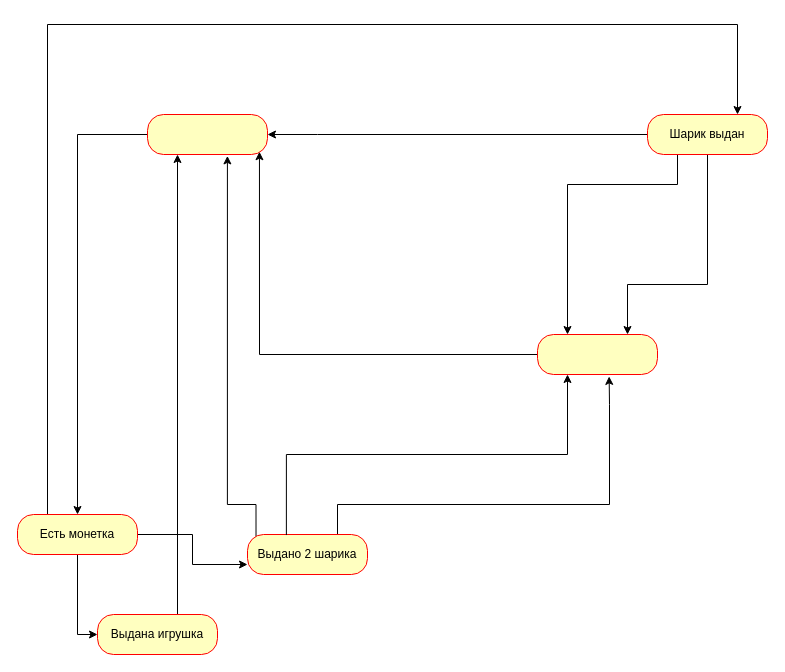
Some shapes in this 785 by 672 pixel diagram are drawn without their labels. Here are the shapes that lost their labels. From the top down, the centre of each, then its label:
At (207,134): "Нет монетки".
At (597,354): "Нет шариков".
